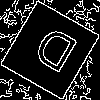D: (25, 25, 81, 83)
